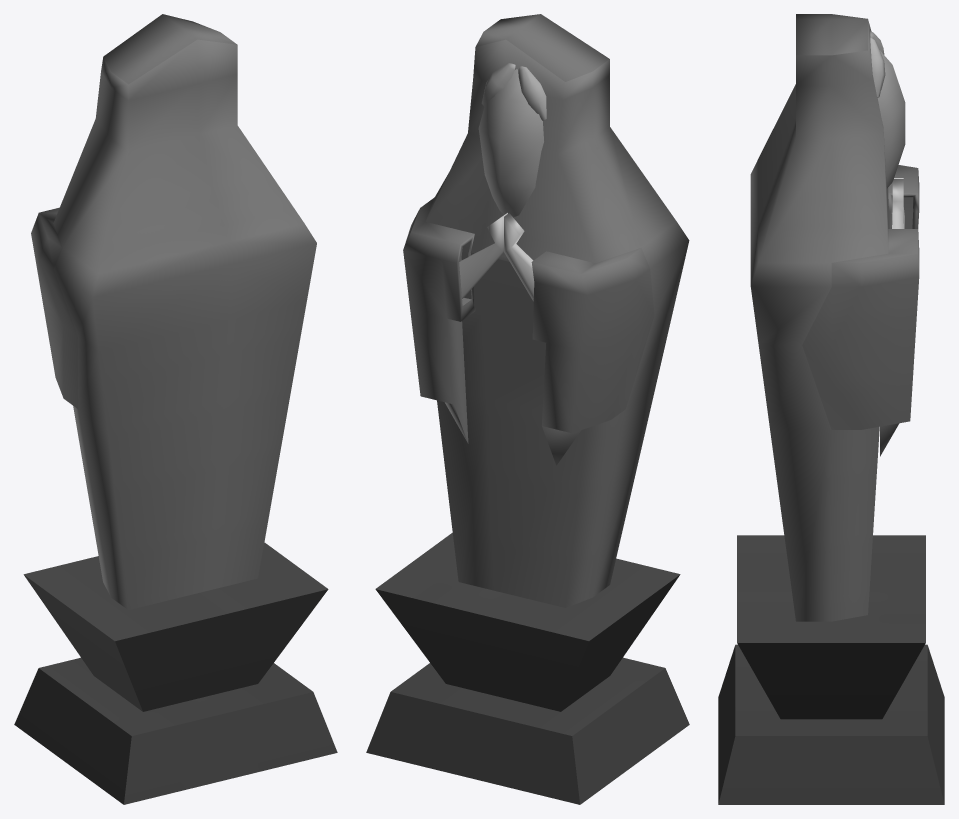
The model's file is SK_Statue 1.fbx.
The picture shows the model from 3 angles, left to right: view 1: azimuth 30°, elevation 25°; view 2: azimuth 150°, elevation 25°; view 3: azimuth 270°, elevation 25°; orthographic projection. The views are drawn at different scales.
Parts seen in each view (by area): view 1: SM_Statue; view 2: SM_Statue; view 3: SM_Statue.
Part boxes in pixels (x1,y1,x2,y2): SM_Statue: (14,14,337,804); SM_Statue: (366,14,689,804); SM_Statue: (718,14,944,804).
Size of the model in its own units: 107 by 318 by 88.78.
